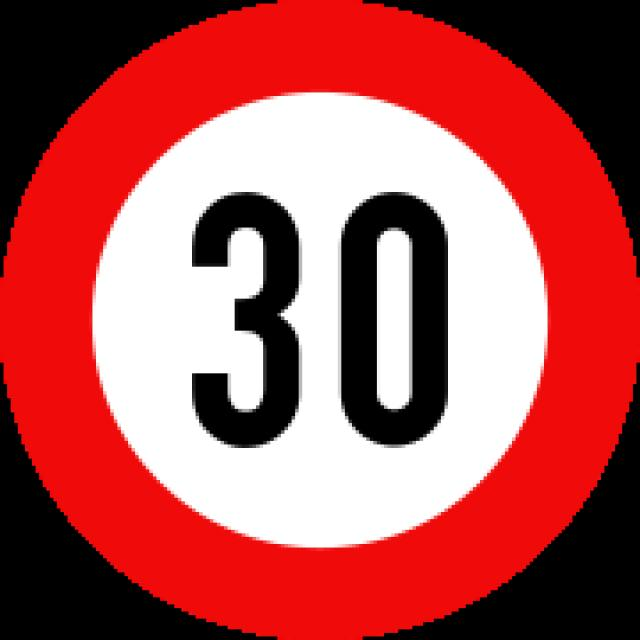Speed Limit -30-: (168, 170, 470, 460)
